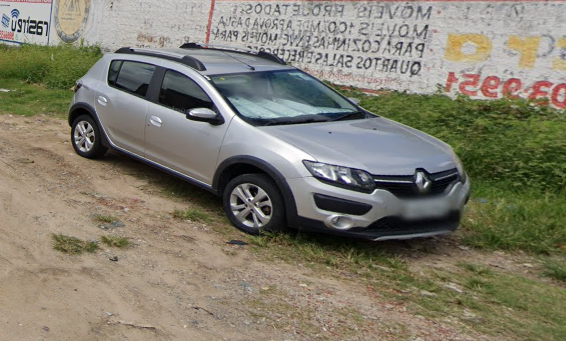car: (64, 40, 473, 250)
